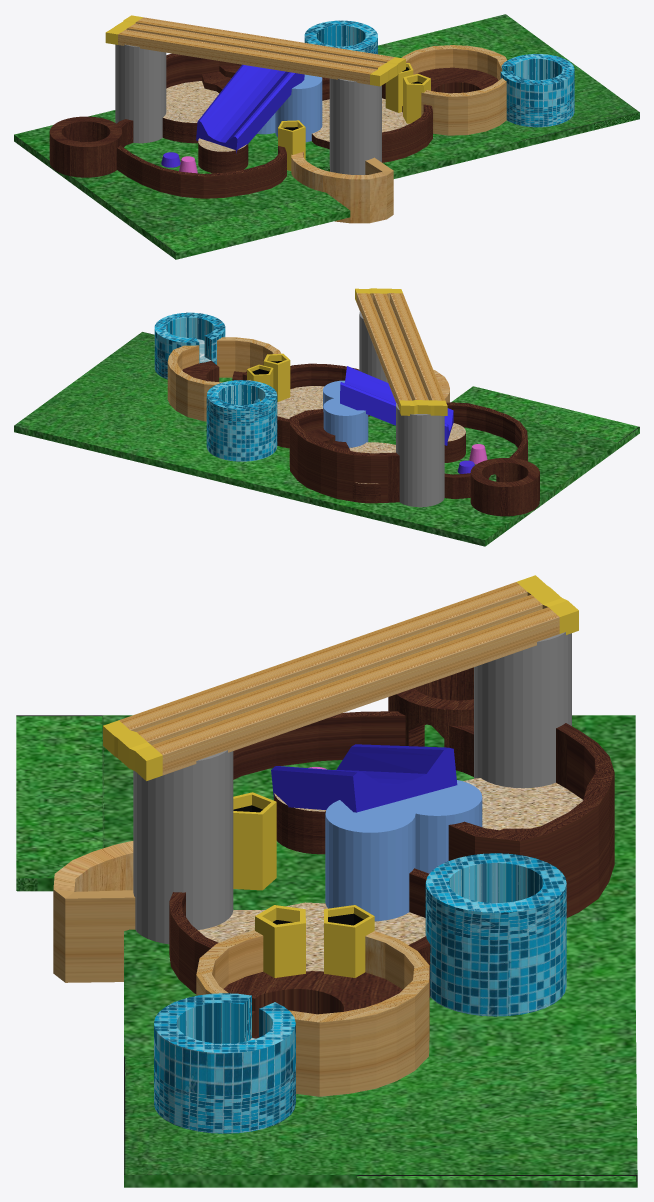
Rendered from niveltexturizado.dae.
3 views of the same model, one above another, from view 1: azimuth 30°, elevation 25°; view 2: azimuth 150°, elevation 25°; view 3: azimuth 270°, elevation 25° (orthographic). The views are drawn at different scales.
Parts seen in each view (by area): view 1: Cube, Cubo, Plano, Cylinder.015, Cylinder.004, Cube.004, Cylinder.010, Cube.006, Cylinder.011, Cube.011, Cylinder.003, Cube.010 (+11 smaller); view 2: Cube, Cubo, Cube.005, Cylinder.016, Cylinder.010, Cylinder.011, Cylinder.015, Cube.010, Plano, Cube.004, Cube.011, Cylinder.006 (+10 smaller); view 3: Cube, Cubo, Cylinder.016, Cylinder.015, Cylinder.004, Cube.010, Cylinder.010, Cube.005, Cube.006, Cylinder.007, Plano, Cube.004 (+12 smaller).
Boxes of the visible parts, x1,y1,x2,y2 form: Cube: (14, 14, 639, 259); Cubo: (105, 15, 405, 86); Plano: (196, 64, 304, 153); Cylinder.015: (500, 54, 574, 127); Cylinder.004: (329, 78, 381, 174); Cube.004: (117, 145, 286, 198); Cylinder.010: (115, 44, 166, 143); Cube.006: (291, 151, 393, 223); Cylinder.011: (49, 116, 122, 177); Cube.011: (421, 78, 506, 135); Cylinder.003: (162, 81, 219, 143); Cube.010: (401, 45, 507, 80); Cube: (14, 332, 639, 546); Cubo: (355, 288, 447, 415); Cube.005: (289, 409, 399, 502); Cylinder.016: (206, 380, 277, 461); Cylinder.010: (396, 395, 444, 507); Cylinder.011: (470, 458, 539, 516); Cylinder.015: (154, 312, 225, 379); Cube.010: (167, 345, 250, 421); Plano: (340, 366, 453, 445); Cube.004: (446, 402, 527, 461); Cube.011: (217, 337, 280, 377); Cylinder.006: (323, 398, 368, 447); Cube: (16, 715, 637, 1187); Cubo: (103, 575, 578, 780); Cylinder.016: (425, 853, 566, 1016); Cylinder.015: (154, 993, 295, 1133); Cylinder.004: (133, 750, 233, 944); Cube.010: (289, 931, 429, 1096); Cylinder.010: (474, 632, 571, 788); Cube.005: (448, 723, 614, 917); Cube.006: (53, 841, 135, 982); Cylinder.007: (325, 800, 415, 921); Plano: (271, 744, 457, 812); Cube.004: (233, 711, 405, 779).
Bounding box in the file's own units: 134 × 75.65 × 34.06.
Materials: 13 (6 with a texture image).
